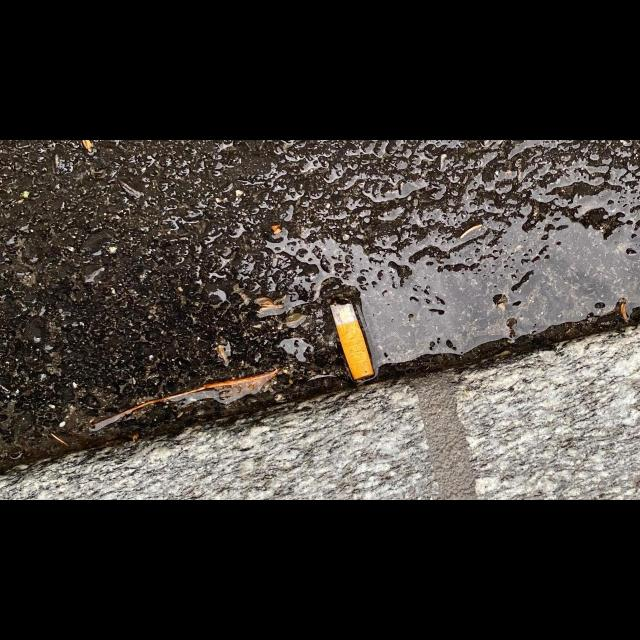cigarette: (332, 298, 374, 383)
